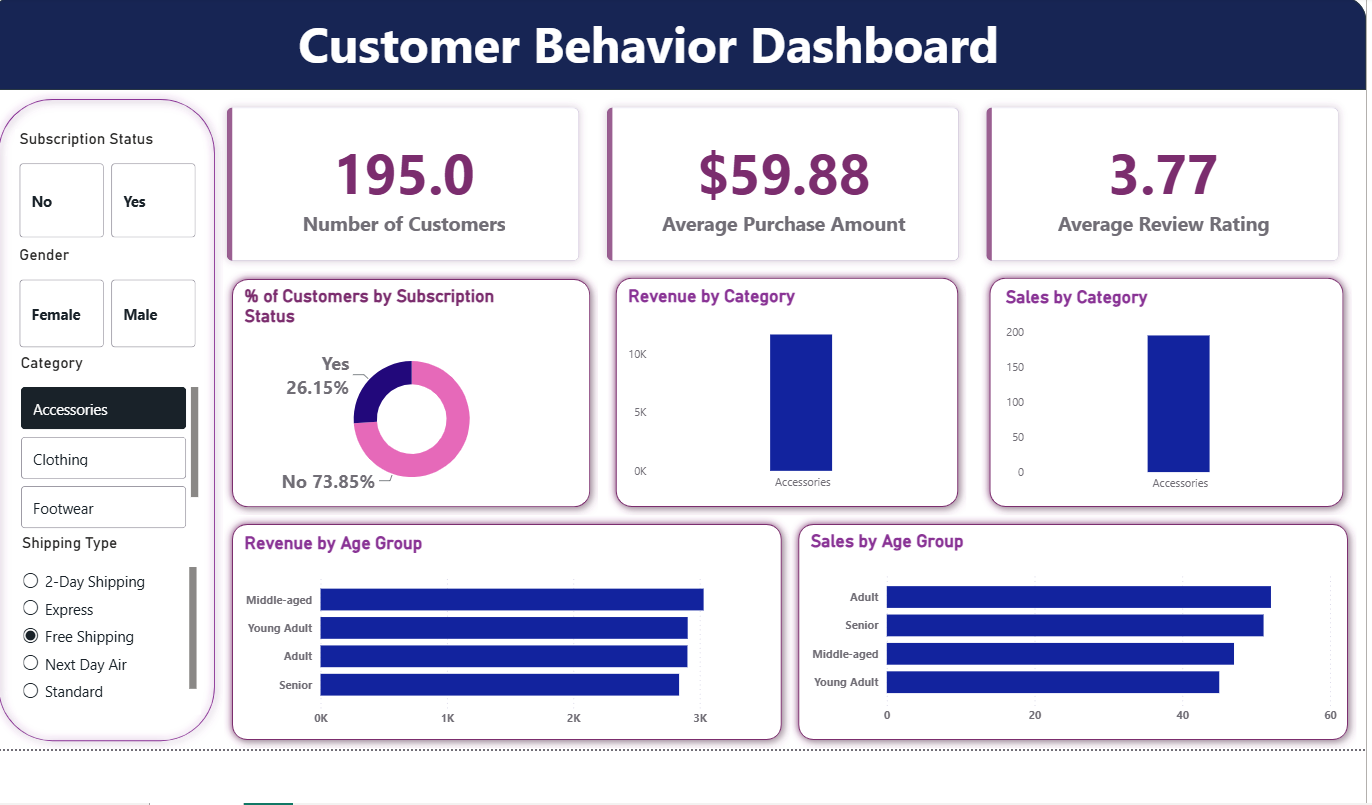

The dashboard page shown, as its layout file describes it:
{"tool":"powerbi","page":{"name":"Page 1","canvas":[1500,820],"ordinal":0},"visuals":[{"type":"cardVisual","fields":{"Data":["public customer.Number of Customers","public customer.Average Purchase Amount","public customer.Average Review Rating"]},"box":[230.6,93.1,1269.4,223.6],"z":1000},{"type":"textbox","box":[0,101,199,169],"z":3000},{"type":"shape","box":[254.2,298.6,408.3,266.7],"z":5000},{"type":"shape","box":[673.1,297,391.4,267.9],"z":6000},{"type":"shape","box":[1081.1,297,403.9,267.9],"z":7000},{"type":"donutChart","title":"% of Customers by Subscription Status","fields":{"Category":["public customer.subscription_status"],"Y":["CountNonNull(public customer.customer_id)"]},"box":[272,315,374.7,231.8],"z":8000},{"type":"clusteredColumnChart","title":"Revenue by Category","fields":{"Y":["Sum(public customer.purchase_amount)"],"Category":["public customer.category"]},"box":[691.2,315,360.8,231.8],"z":9000},{"type":"clusteredColumnChart","title":"Sales by Category","fields":{"Y":["CountNonNull(public customer.customer_id)"],"Category":["public customer.category"]},"box":[1102,316.4,360.8,231.8],"z":10000},{"type":"shape","box":[0,102.2,254.2,718.1],"z":13000},{"type":"advancedSlicerVisual","fields":{"Values":["public customer.subscription_status"]},"box":[27.8,144.4,202.8,123.6],"z":13250},{"type":"advancedSlicerVisual","fields":{"Values":["public customer.gender"]},"box":[27.8,270.8,202.8,116.7],"z":13500},{"type":"advancedSlicerVisual","fields":{"Values":["public customer.category"]},"box":[28.6,388.4,203,196.2],"z":14000},{"type":"listSlicer","fields":{"Values":["public customer.shipping_type"]},"box":[30,584.6,200.3,197.6],"z":15000},{"type":"shape","box":[254.8,565.5,617.3,253.5],"z":16000},{"type":"clusteredBarChart","title":"Revenue by Age Group","fields":{"Y":["Sum(public customer.purchase_amount)"],"Category":["public customer.age_group"]},"box":[272.5,584.6,583.2,219.4],"z":17000},{"type":"shape","box":[872.1,565.5,617.3,253.5],"z":18000},{"type":"clusteredBarChart","title":"Sales by Age Group","fields":{"Y":["CountNonNull(public customer.customer_id)"],"Category":["public customer.age_group"]},"box":[889.8,581.9,583.2,219.4],"z":19000},{"type":"shape","box":[0,0,1500.3,101.3],"z":24501},{"type":"textbox","box":[331.1,9.5,1034.3,83.1],"z":24502}]}

Visuals, with their boxes on the page's 1500x820 design canvas (x1, y1, x2, y2). These are canvas units, not pixel positions in the 1372x805 screenshot, which may show the page scaled, cropped or inside an application window:
cardVisual - public customer.Number of Customers x public customer.Average Purchase Amount: <region>231, 93, 1500, 317</region>
textbox: <region>0, 101, 199, 270</region>
shape: <region>254, 299, 662, 565</region>
shape: <region>673, 297, 1064, 565</region>
shape: <region>1081, 297, 1485, 565</region>
"% of Customers by Subscription Status" donutChart: <region>272, 315, 647, 547</region>
"Revenue by Category" clusteredColumnChart: <region>691, 315, 1052, 547</region>
"Sales by Category" clusteredColumnChart: <region>1102, 316, 1463, 548</region>
shape: <region>0, 102, 254, 820</region>
advancedSlicerVisual - public customer.subscription_status: <region>28, 144, 231, 268</region>
advancedSlicerVisual - public customer.gender: <region>28, 271, 231, 388</region>
advancedSlicerVisual - public customer.category: <region>29, 388, 232, 585</region>
listSlicer - public customer.shipping_type: <region>30, 585, 230, 782</region>
shape: <region>255, 566, 872, 819</region>
"Revenue by Age Group" clusteredBarChart: <region>272, 585, 856, 804</region>
shape: <region>872, 566, 1489, 819</region>
"Sales by Age Group" clusteredBarChart: <region>890, 582, 1473, 801</region>
shape: <region>0, 0, 1500, 101</region>
textbox: <region>331, 10, 1365, 93</region>
